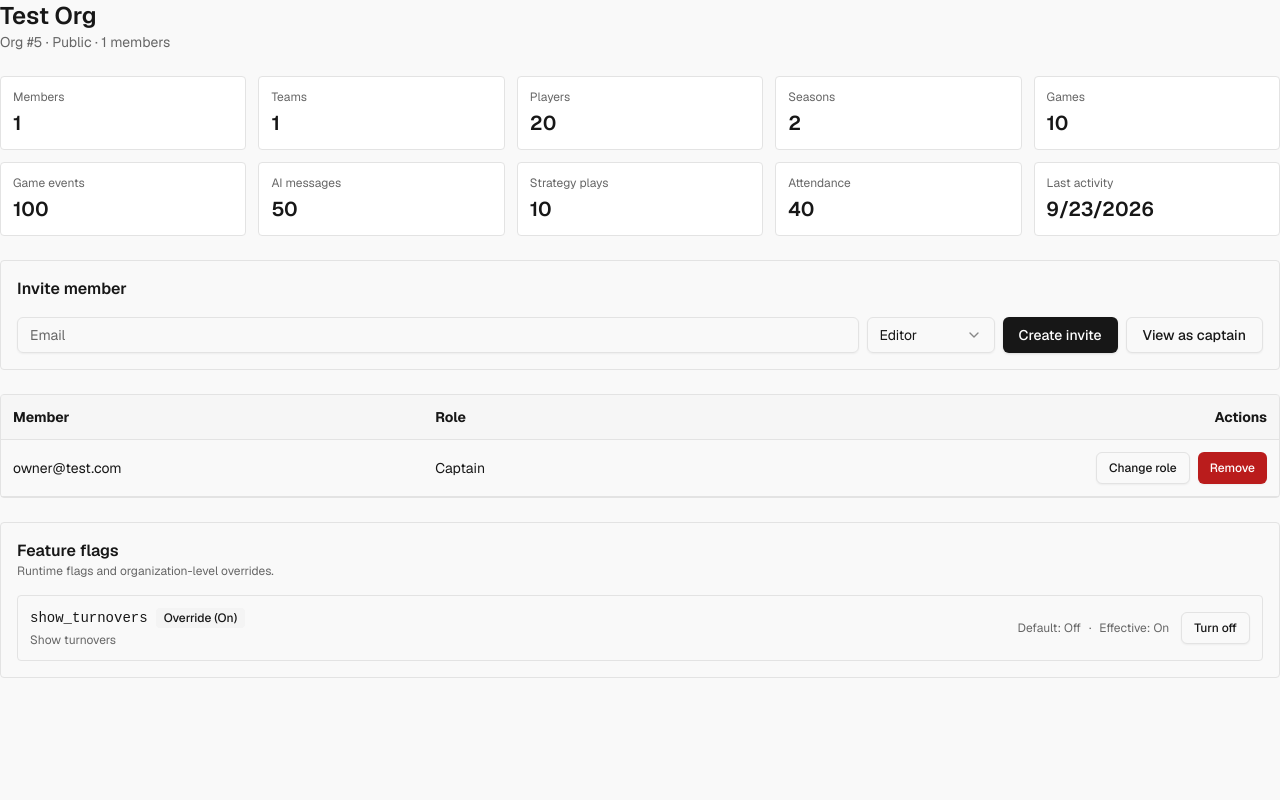
Test: OrgDetail › opens set_flag operation dialog on toggle click
Check: the text "show_turnovers" is shown, box [30, 608, 148, 628]
Click the button "Turn off".
click(1216, 628)  # box [1181, 612, 1250, 644]
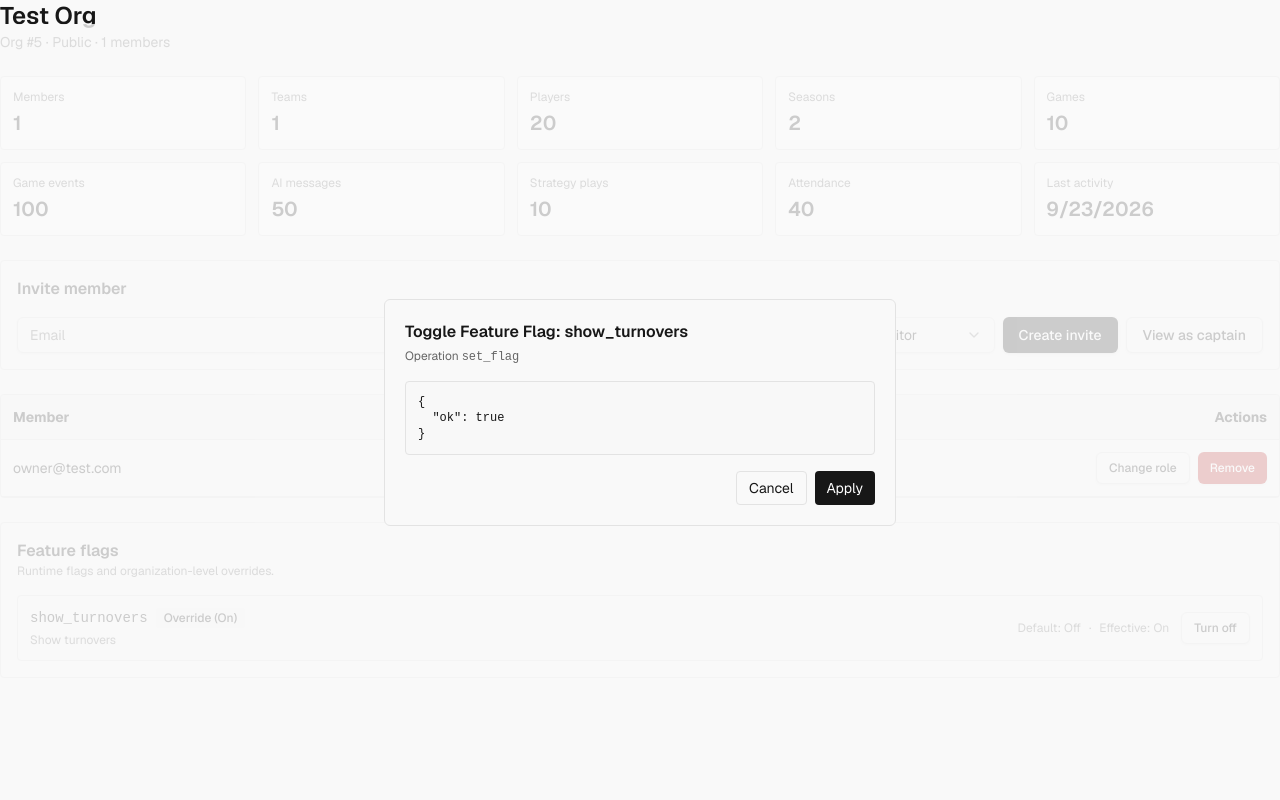
Check: the heading "Toggle Feature Flag: show_turnovers" is shown, box [405, 320, 688, 342]
